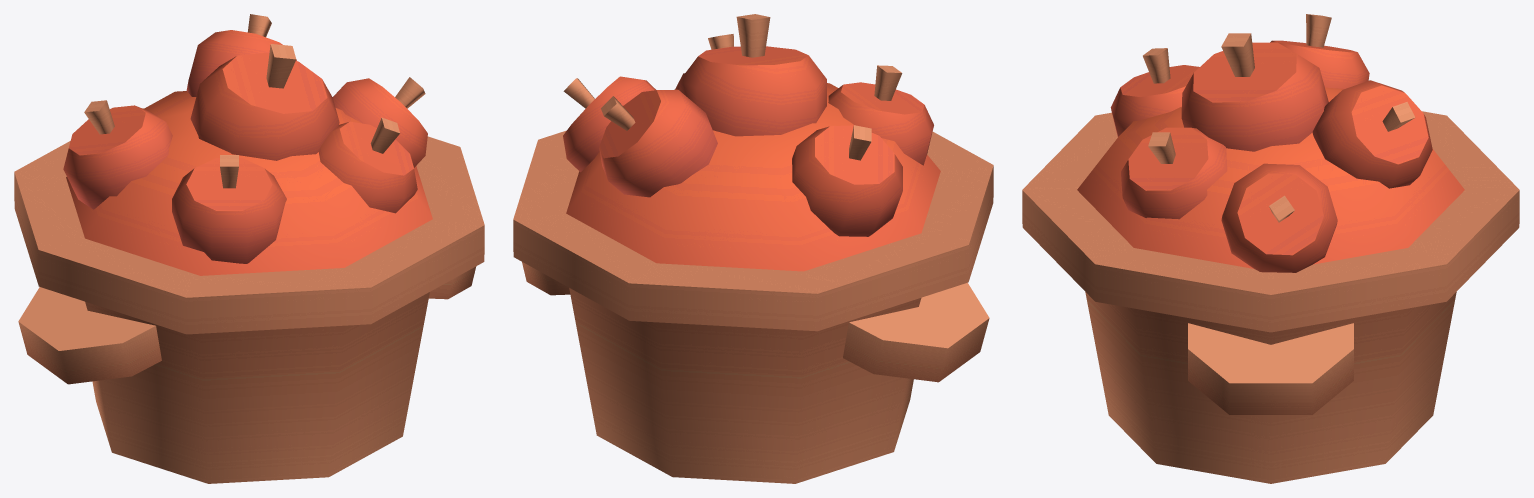
File: display-fruit.glb
3 renders of one model, left to right at view 1: azimuth 30°, elevation 25°; view 2: azimuth 150°, elevation 25°; view 3: azimuth 270°, elevation 25°, orthographic. The views are drawn at different scales.
Parts seen in each view (by area): view 1: display-fruit; view 2: display-fruit; view 3: display-fruit.
Part boxes in pixels (bbox=[...]): display-fruit: bbox=[14, 14, 484, 483]; display-fruit: bbox=[513, 14, 993, 483]; display-fruit: bbox=[1022, 14, 1519, 483].
Bounding box in the file's own units: 0.6 × 0.516 × 0.6.
Materials: 1 (1 with a texture image).
